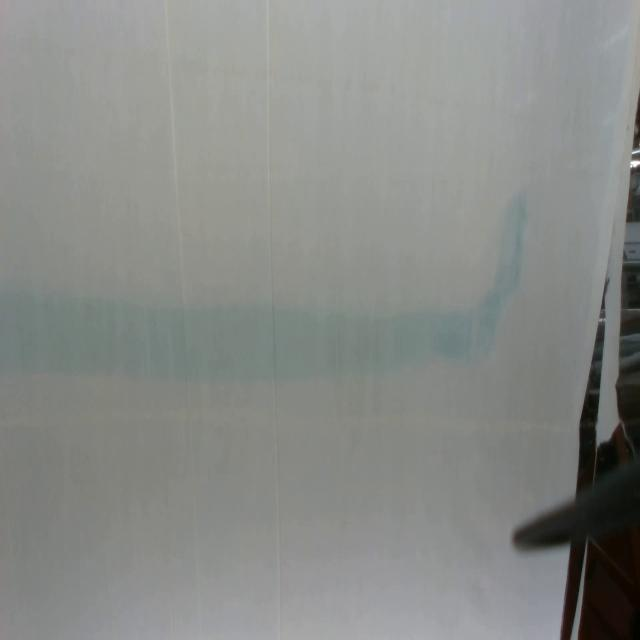color bleeding: (0, 183, 532, 387)
crease: (162, 0, 203, 623), (266, 1, 285, 640)
